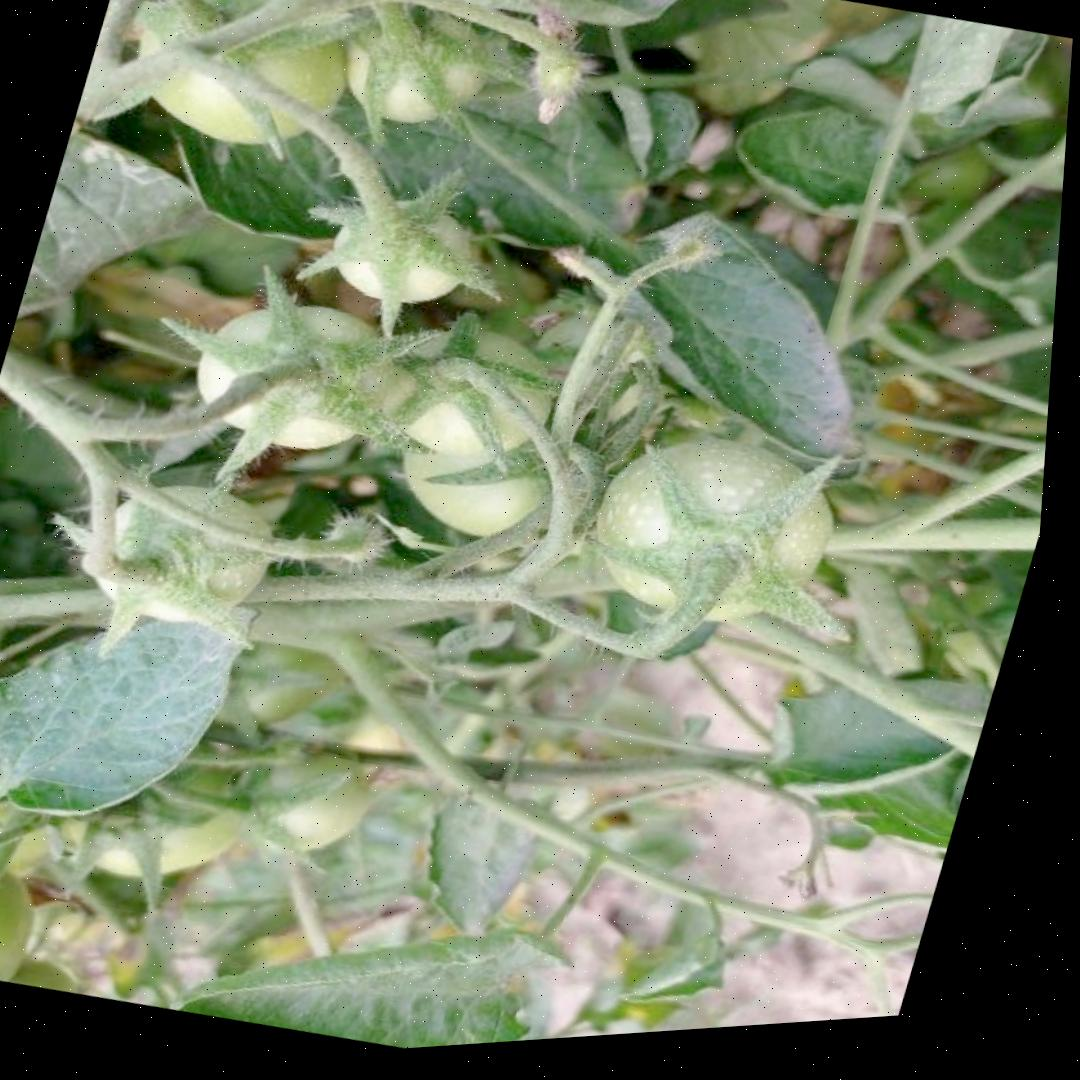mentah: (563, 404, 855, 658), (161, 272, 412, 478), (64, 455, 302, 653), (109, 0, 369, 173), (357, 302, 575, 485), (325, 0, 503, 147), (312, 178, 483, 322)
